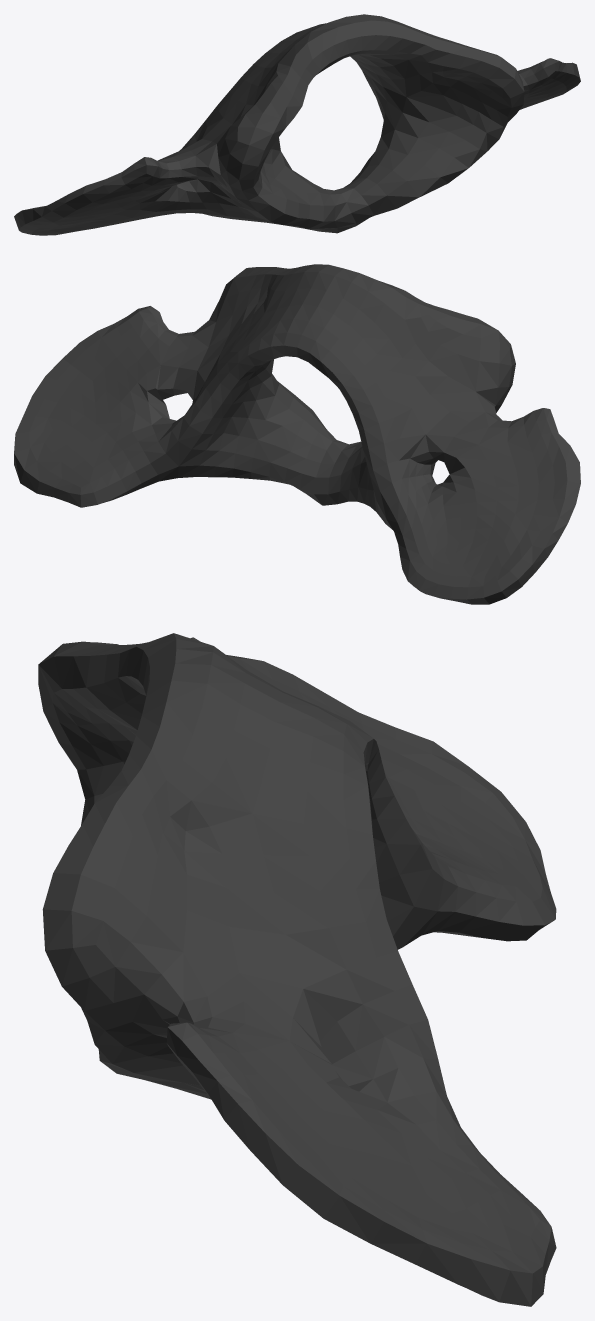
3 renders of one model, top to bottom at view 1: azimuth 30°, elevation 25°; view 2: azimuth 150°, elevation 25°; view 3: azimuth 270°, elevation 25°, orthographic. The views are drawn at different scales.
Visible parts, largest first — view 1: C1; view 2: C1; view 3: C1.
Part boxes in pixels (x1,y1,x2,y2): C1: [14, 14, 580, 235]; C1: [14, 264, 580, 604]; C1: [38, 633, 556, 1306].
Bounding box in the file's own units: 5 × 2 × 2.13.
1 material, 1 textured.
